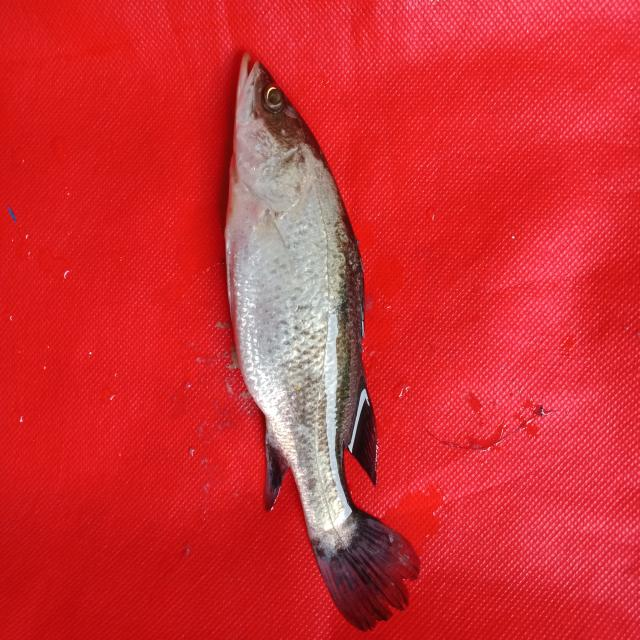ikan: (200, 27, 438, 634)
